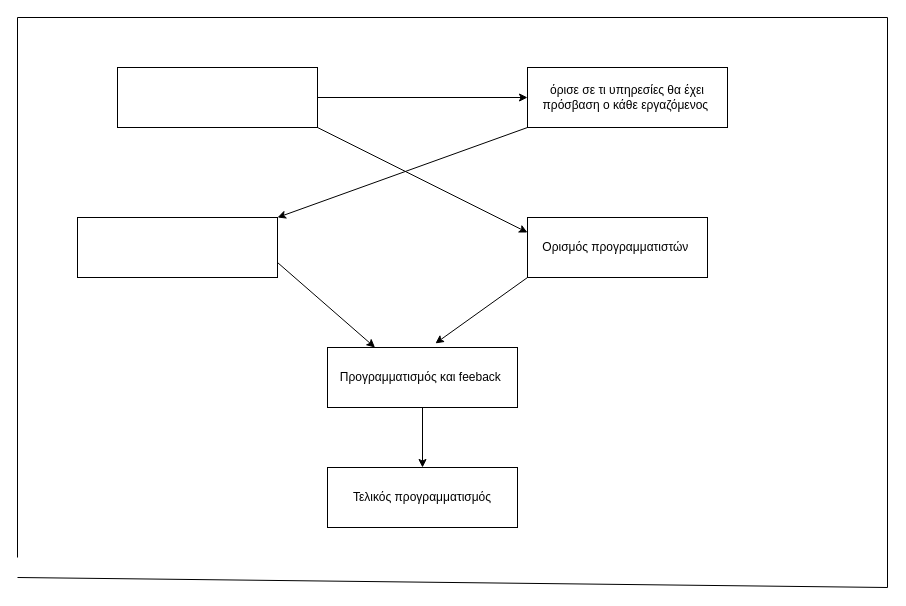
The diagram is 906 pixels wide and 606 high, and some of its shapes have lost their labels. The shapes that lost their labels are listed below. From the top down, each one's centre as x and y in pixels, then its label:
At [217,97]: "όρισε τις ηλεκτρονικές υπηρεσίες".
At [177,247]: "Ενημέρωσε τους εργαζόμενους".
